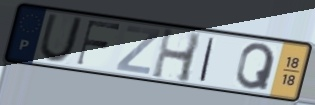F: (74, 19, 123, 67)
H: (149, 26, 205, 86)
I: (197, 36, 217, 84)
Q: (234, 42, 278, 92)
U: (37, 13, 86, 65)
Z: (113, 24, 163, 76)
